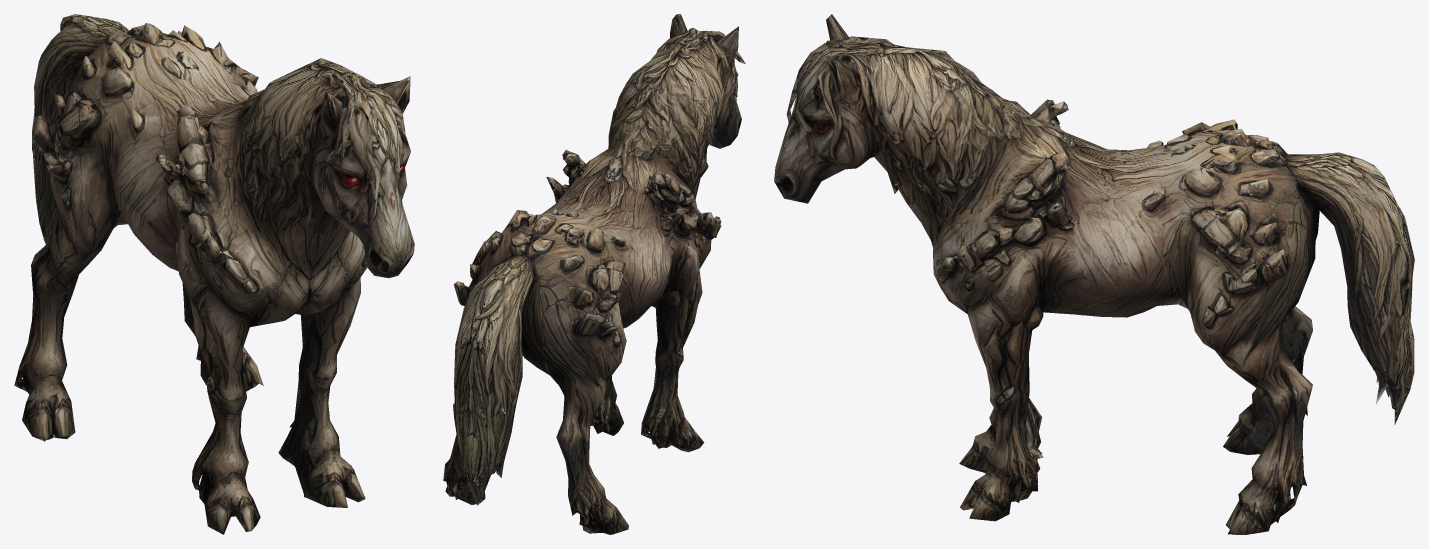
Rendered from WildHorse.glb.
The picture shows the model from 3 angles, left to right: view 1: azimuth 30°, elevation 25°; view 2: azimuth 150°, elevation 25°; view 3: azimuth 270°, elevation 25°; orthographic projection. The views are drawn at different scales.
Visible parts, largest first — view 1: texture_mapping; view 2: texture_mapping; view 3: texture_mapping.
Part boxes in pixels (x1,y1,x2,y2): texture_mapping: (14,14,414,534); texture_mapping: (443,14,745,534); texture_mapping: (774,14,1414,534).
Bounding box in the file's own units: 0.3777 × 0.777 × 0.9856.
Materials: 1 (1 with a texture image).
